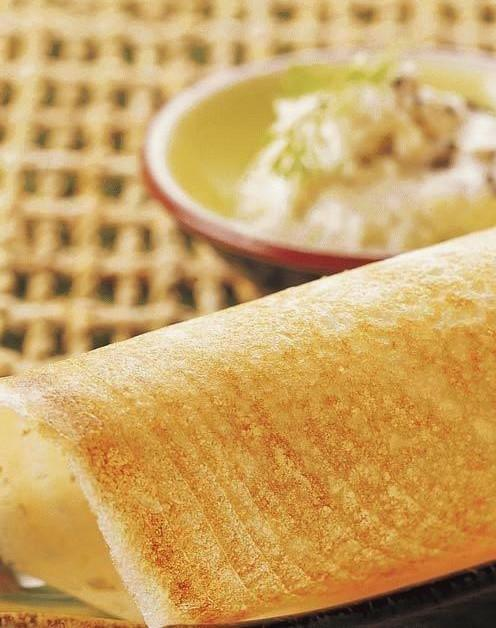Dosa: (0, 228, 496, 628)
